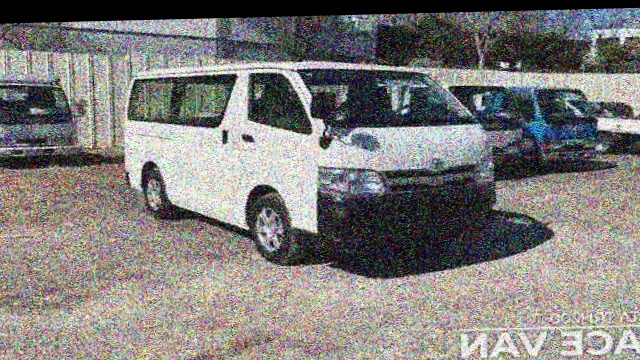van: (121, 62, 495, 262)
